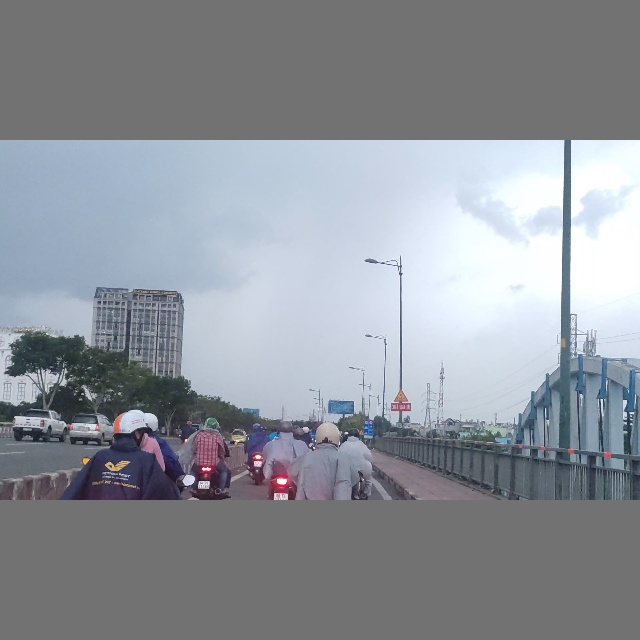W.245a: (393, 389, 409, 403)
